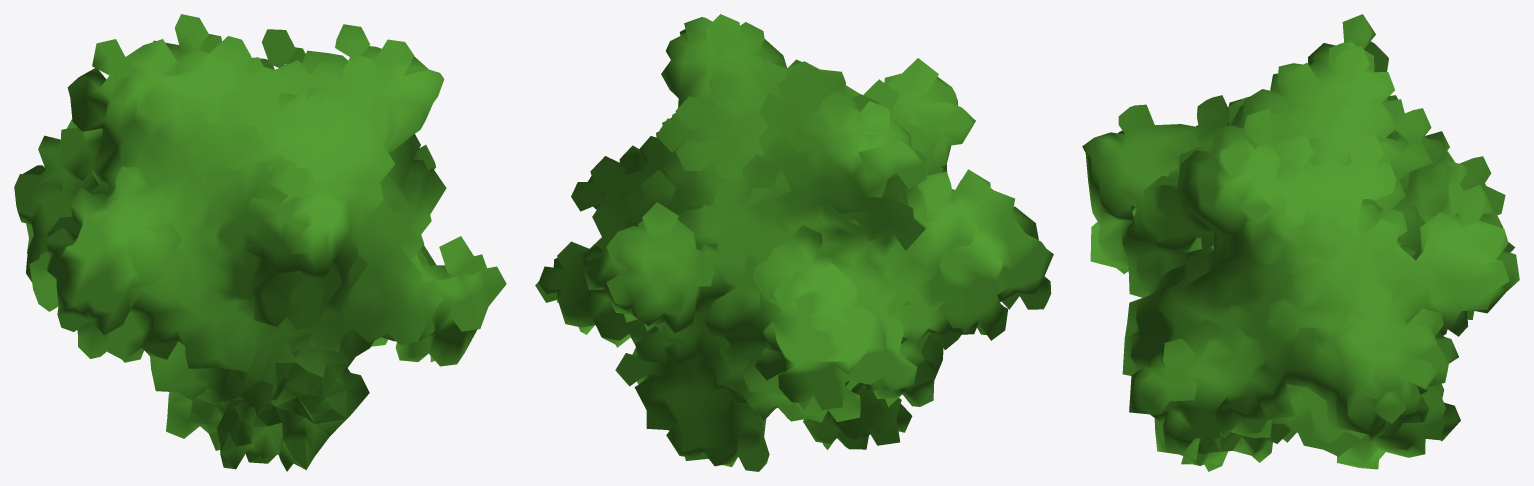
File: bush.fbx
The picture shows the model from 3 angles, left to right: view 1: azimuth 30°, elevation 25°; view 2: azimuth 150°, elevation 25°; view 3: azimuth 270°, elevation 25°; orthographic projection. The views are drawn at different scales.
Visible parts, largest first — view 1: Foliage; view 2: Foliage; view 3: Foliage.
Part boxes in pixels (<box>): Foliage: <box>14,14,506,471</box>; Foliage: <box>535,14,1053,471</box>; Foliage: <box>1082,14,1519,471</box>.
Bounding box in the file's own units: 280 × 260 × 251.
